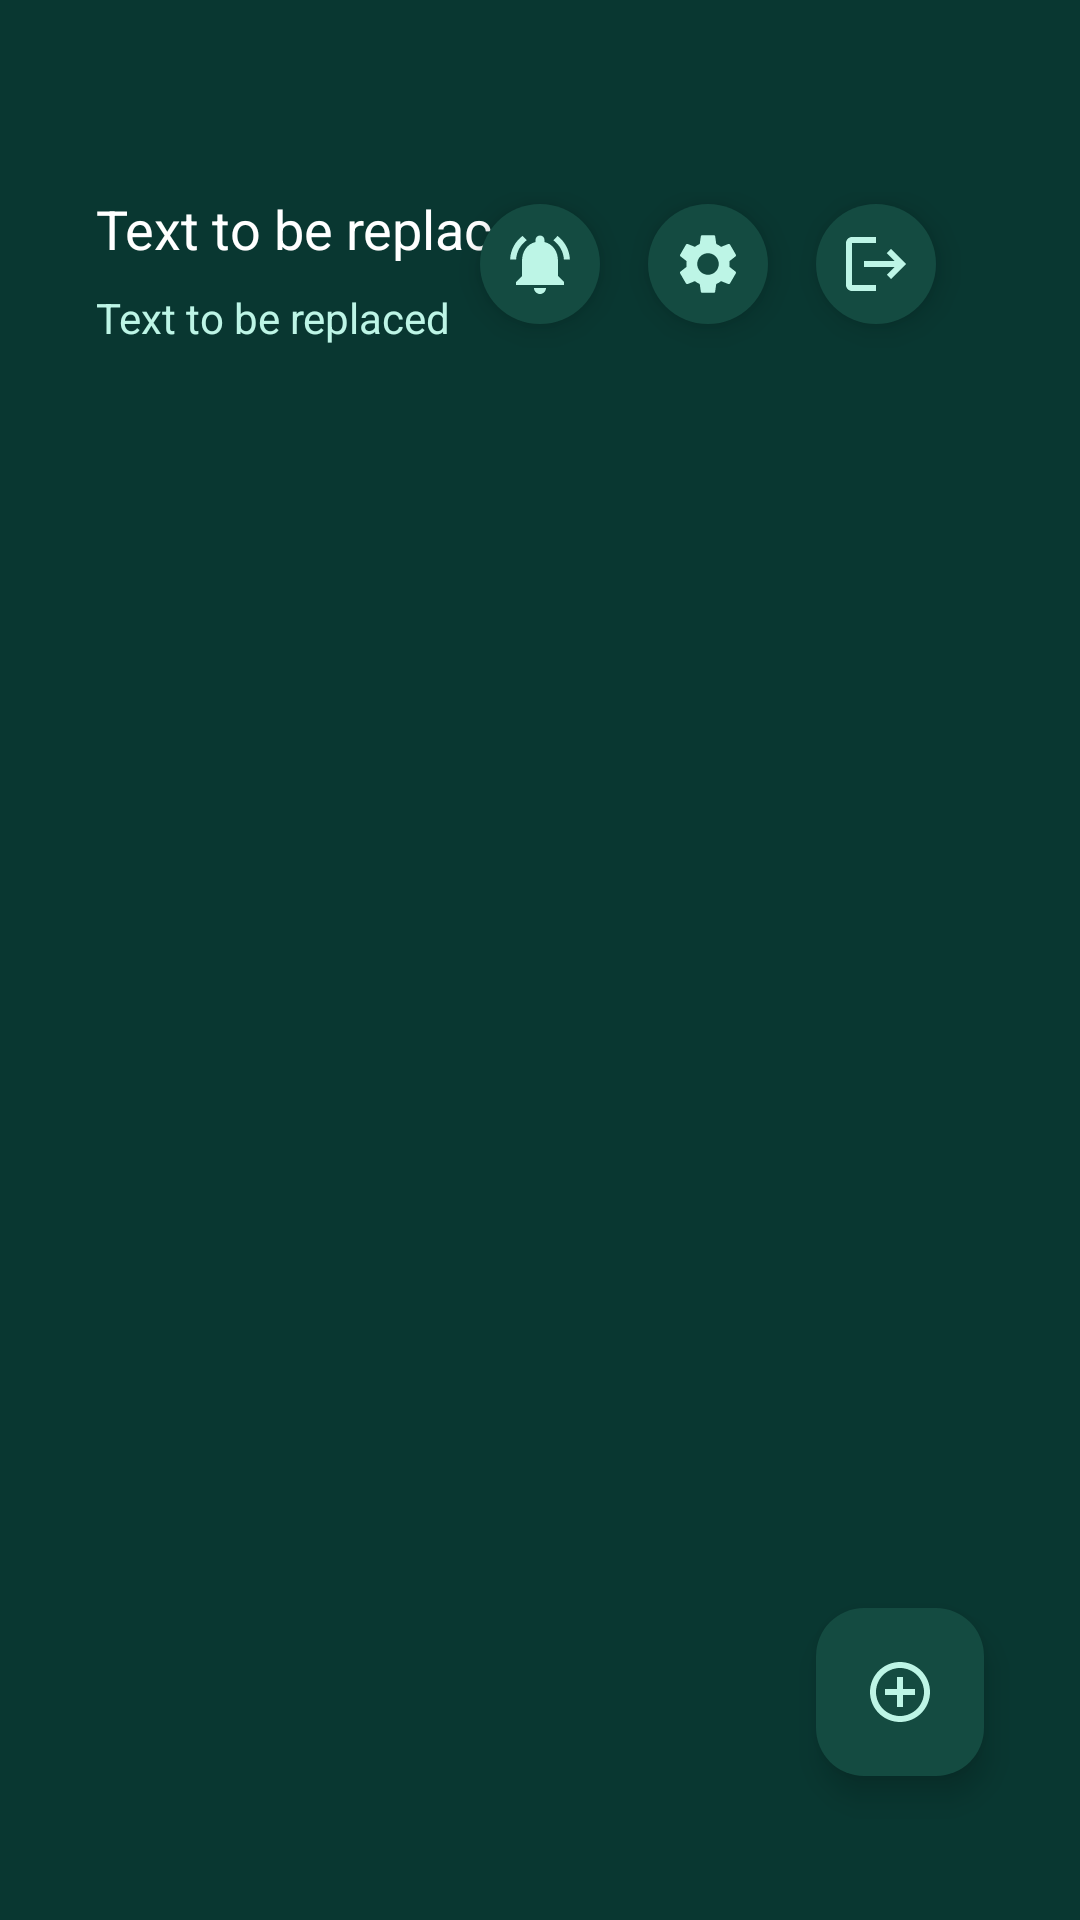

Icon click points for this 1080w x 1920h phone screenshot, format point (x, y):
add circle: point (900, 1692)
notifications: point (540, 264)
settings: point (708, 264)
